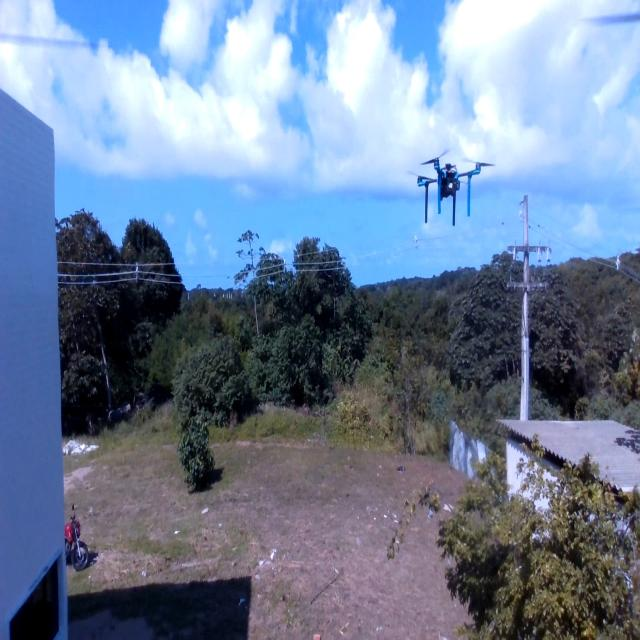-uav-: (400, 133, 502, 230)
